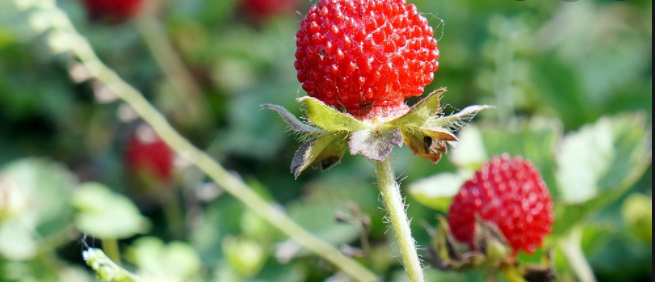ripe: (291, 0, 440, 123), (446, 152, 555, 259), (127, 121, 182, 185)
